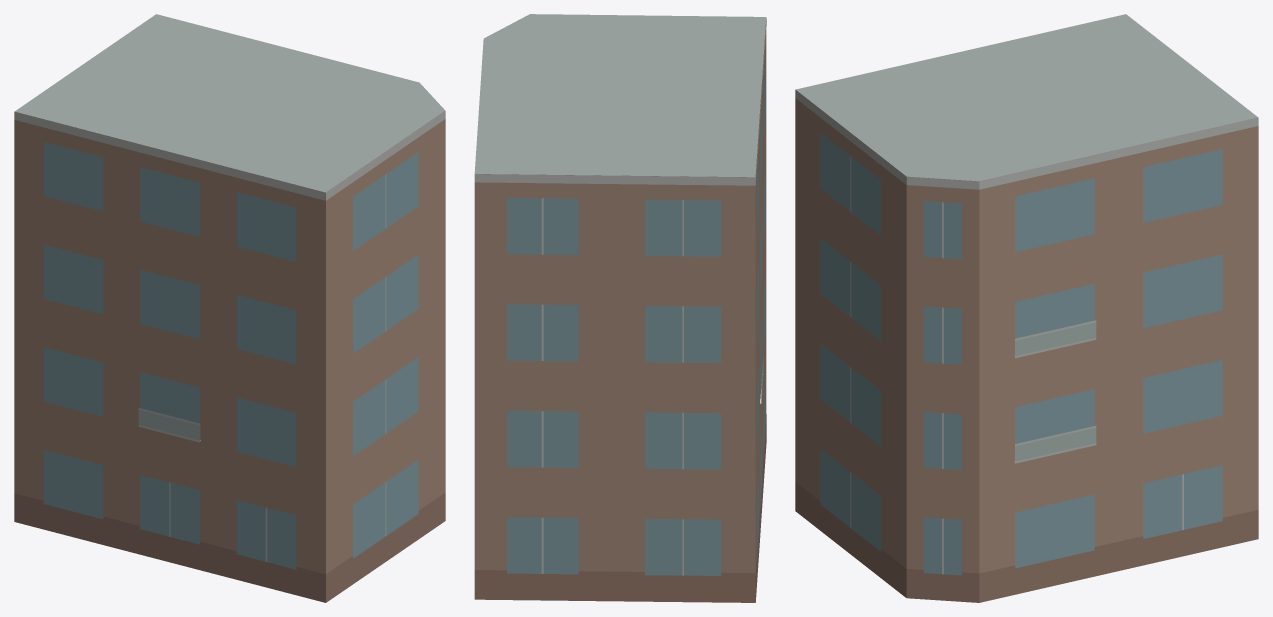
Rendered from residential-b59330ac-5894-49e7-91bc-bbe2209b76ee.glb.
The picture shows the model from 3 angles, left to right: view 1: azimuth 30°, elevation 25°; view 2: azimuth 150°, elevation 25°; view 3: azimuth 270°, elevation 25°; orthographic projection. The views are drawn at different scales.
Parts seen in each view (by area): view 1: residential-b59330ac-5894-49e7-91bc-bbe2209b76ee.tmp; view 2: residential-b59330ac-5894-49e7-91bc-bbe2209b76ee.tmp; view 3: residential-b59330ac-5894-49e7-91bc-bbe2209b76ee.tmp.
Boxes of the visible parts, x1=… form: residential-b59330ac-5894-49e7-91bc-bbe2209b76ee.tmp: x1=14, y1=14, x2=445, y2=602; residential-b59330ac-5894-49e7-91bc-bbe2209b76ee.tmp: x1=474, y1=14, x2=766, y2=602; residential-b59330ac-5894-49e7-91bc-bbe2209b76ee.tmp: x1=795, y1=14, x2=1258, y2=602.
Size of the model in its own units: 10.39 by 12.2 by 12.16.
